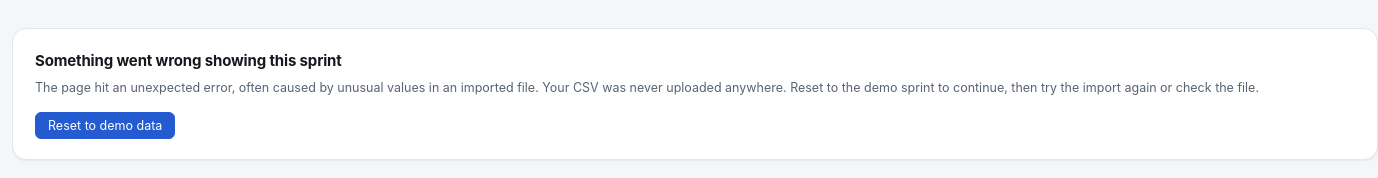
Scenario: ErrorBoundary › shows a recovery screen and resets to demo data
Check: the message shows "Something went wrong showing this sprint", box [35,51,342,70]
Click the button "Reset to demo data": (105, 125) [35,112,175,139]
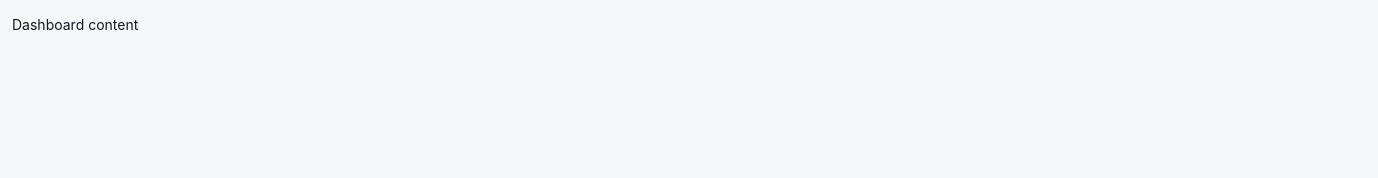
Check: the text "Dashboard content" is shown, box [12,16,138,33]
